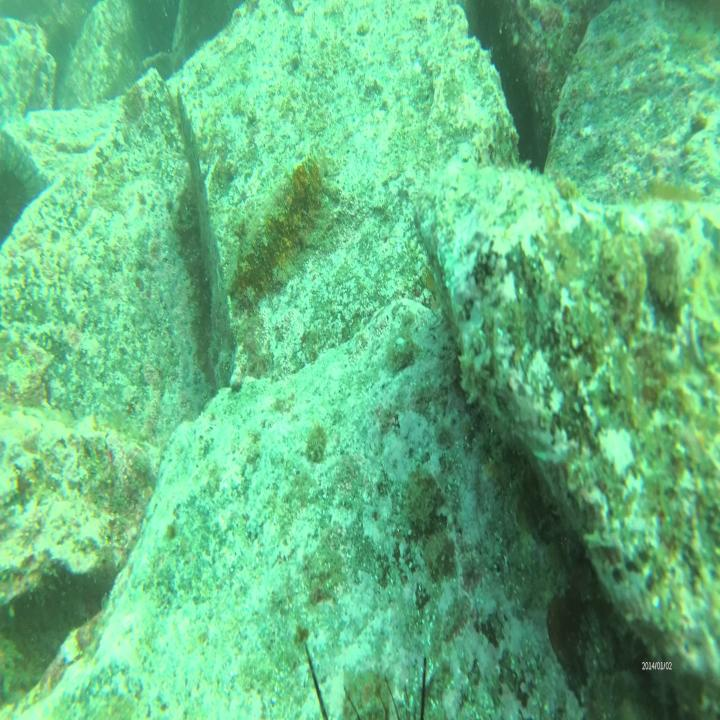echinus: (1, 141, 38, 256)
